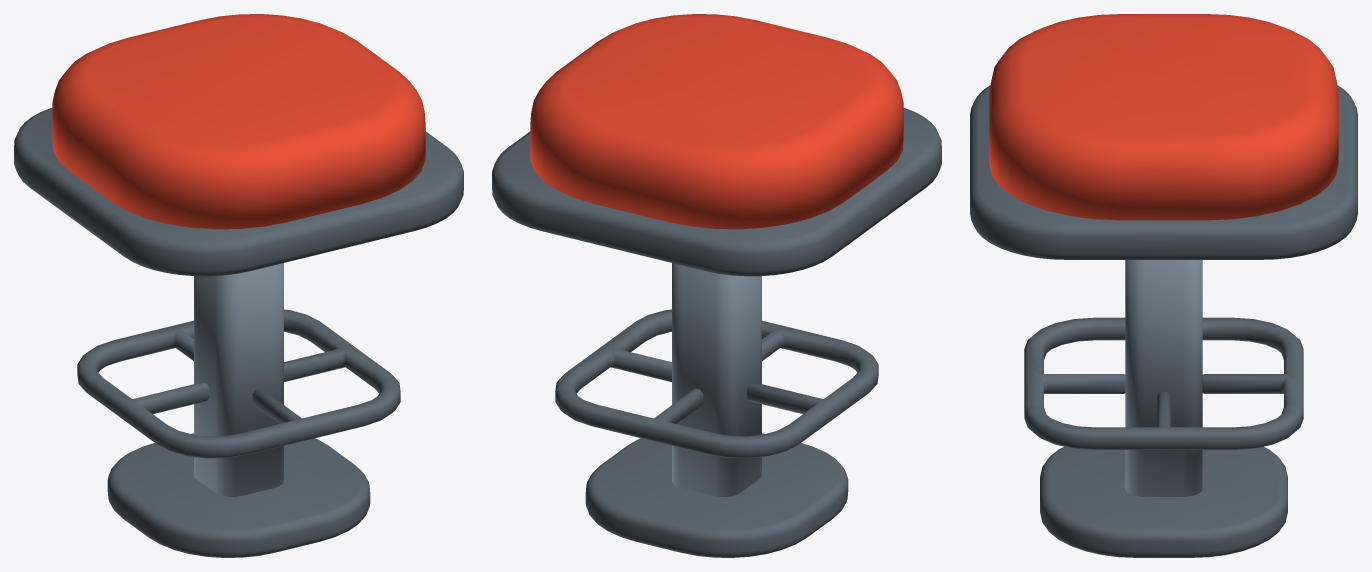
File: Stool.fbx
3 views of the same model, side by side, from view 1: azimuth 30°, elevation 25°; view 2: azimuth 150°, elevation 25°; view 3: azimuth 270°, elevation 25° (orthographic).
Parts seen in each view (by area): view 1: Stool; view 2: Stool; view 3: Stool.
Part boxes in pixels (box(x1,y1,x2,y2)): Stool: box(14, 14, 463, 557); Stool: box(492, 14, 941, 557); Stool: box(970, 14, 1357, 557).
Size of the model in its own units: 60 by 73.8 by 60.
